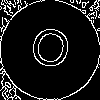O: (25, 25, 74, 80)
